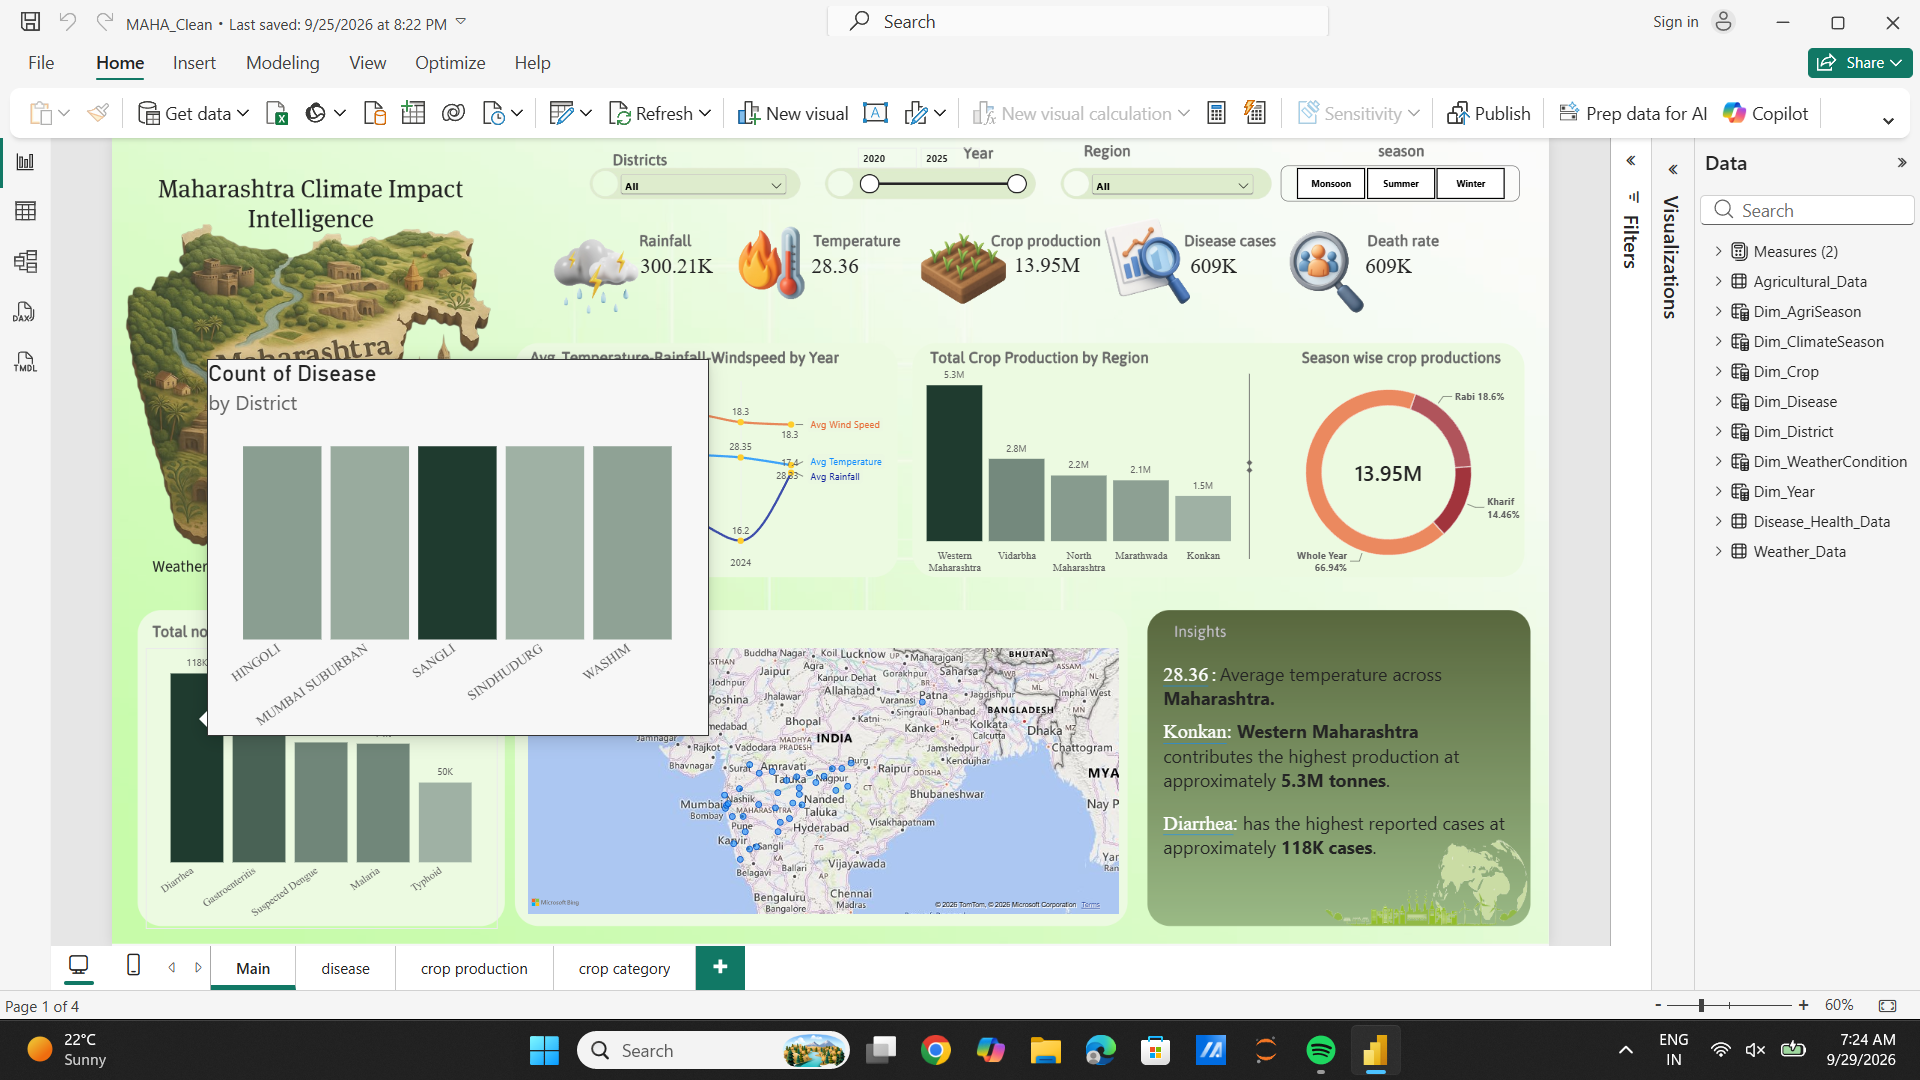

The dashboard page shown, as its layout file describes it:
{"tool":"powerbi","page":{"name":"Main","canvas":[1920,1080],"ordinal":0},"visuals":[{"type":"cardVisual","fields":{"Data":["Measures (2).Total Rainfall"]},"box":[689,117.8,143.2,106.8],"z":0},{"type":"cardVisual","fields":{"Data":["Measures (2).Avg Temperature"]},"box":[917.8,117.8,174.8,106.7],"z":1000},{"type":"cardVisual","fields":{"Data":["Measures (2).Total Production"]},"box":[1189.7,117.5,174.8,106.7],"z":2000},{"type":"cardVisual","fields":{"Data":["Measures (2).Total Cases"]},"box":[1424.4,117.8,209.4,106.6],"z":3000},{"type":"cardVisual","fields":{"Data":["Measures (2).Total Deaths"]},"box":[1658.1,117.7,174.8,106.7],"z":4000},{"type":"slicer","fields":{"Values":["Dim_District.District"]},"box":[674.6,44.1,231.4,41.5],"z":5000},{"type":"slicer","fields":{"Values":["Dim_Year.Year"]},"box":[988.1,8.5,236.4,77.1],"z":6000},{"type":"slicer","fields":{"Values":["Dim_District.Region"]},"box":[1304.2,44.1,225.4,41.5],"z":7000},{"type":"columnChart","fields":{"Category":["Dim_District.Region"],"Y":["dax demo.Total Production"]},"box":[1047.5,293.2,482.2,290.7],"z":8000},{"type":"lineChart","fields":{"Category":["Dim_Year.Year"],"Y":["Measures (2).Avg Temperature"],"Y2":["Measures (2).Avg Rainfall","Measures (2).Avg Wind Speed"]},"box":[555.8,316.6,480.4,261.4],"z":9000},{"type":"columnChart","fields":{"Y":["Measures (2).Total Cases"],"Category":["Disease_Health_Data.DISEASE"]},"box":[45.4,681.4,470.1,376.3],"z":10000},{"type":"slicer","fields":{"Values":["Disease_Health_Data.SEASON"]},"box":[1561.3,37.1,319.4,48.4],"z":11000},{"type":"donutChart","fields":{"Category":["Agricultural_Data.SEASON"],"Y":["Measures (2).Total Production"]},"box":[1529.5,276.1,351.5,342.3],"z":12000},{"type":"map","fields":{"Category":["Dim_District.District"]},"box":[556.7,681.4,788.7,354.6],"z":13000},{"type":"textbox","box":[1404.3,699.4,462,77.3],"z":14000},{"type":"textbox","box":[906,75,150,150],"z":15000},{"type":"textbox","box":[45,75,470,150],"z":16000},{"type":"textbox","box":[1404.3,776.7,462,117.8],"z":16001},{"type":"textbox","box":[1404.3,894.5,462,128.8],"z":16002}]}

Visuals, with their boxes on the page's 1920x1080 design canvas (x1, y1, x2, y2). These are canvas units, not pixel positions in the 1920x1080 screenshot, which may show the page scaled, cropped or inside an application window:
cardVisual - Measures (2).Total Rainfall: (left=689, top=118, right=832, bottom=225)
cardVisual - Measures (2).Avg Temperature: (left=918, top=118, right=1093, bottom=224)
cardVisual - Measures (2).Total Production: (left=1190, top=118, right=1364, bottom=224)
cardVisual - Measures (2).Total Cases: (left=1424, top=118, right=1634, bottom=224)
cardVisual - Measures (2).Total Deaths: (left=1658, top=118, right=1833, bottom=224)
slicer - Dim_District.District: (left=675, top=44, right=906, bottom=86)
slicer - Dim_Year.Year: (left=988, top=8, right=1224, bottom=86)
slicer - Dim_District.Region: (left=1304, top=44, right=1530, bottom=86)
columnChart - Dim_District.Region x dax demo.Total Production: (left=1048, top=293, right=1530, bottom=584)
lineChart - Dim_Year.Year x Measures (2).Avg Temperature: (left=556, top=317, right=1036, bottom=578)
columnChart - Measures (2).Total Cases x Disease_Health_Data.DISEASE: (left=45, top=681, right=516, bottom=1058)
slicer - Disease_Health_Data.SEASON: (left=1561, top=37, right=1881, bottom=86)
donutChart - Agricultural_Data.SEASON x Measures (2).Total Production: (left=1530, top=276, right=1881, bottom=618)
map - Dim_District.District: (left=557, top=681, right=1345, bottom=1036)
textbox: (left=1404, top=699, right=1866, bottom=777)
textbox: (left=906, top=75, right=1056, bottom=225)
textbox: (left=45, top=75, right=515, bottom=225)
textbox: (left=1404, top=777, right=1866, bottom=894)
textbox: (left=1404, top=894, right=1866, bottom=1023)
